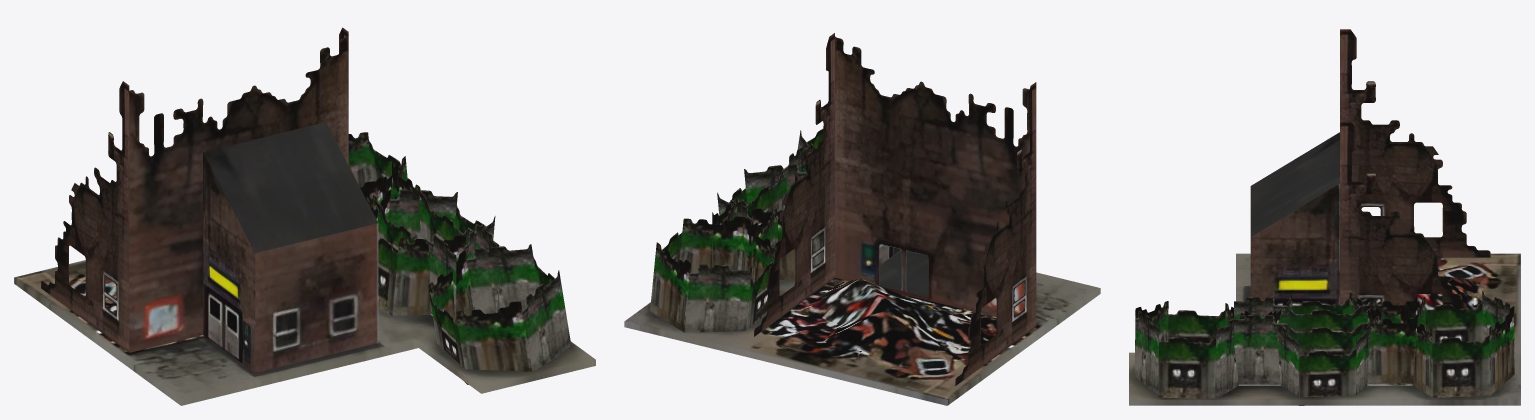
Rendered from chemicalplant_dam_hdtex.glb.
The picture shows the model from 3 angles, left to right: view 1: azimuth 30°, elevation 25°; view 2: azimuth 150°, elevation 25°; view 3: azimuth 270°, elevation 25°; orthographic projection. The views are drawn at different scales.
Visible parts, largest first — view 1: ChemicalPlantDam; view 2: ChemicalPlantDam; view 3: ChemicalPlantDam.
Boxes of the visible parts, x1,y1,x2,y2 form: ChemicalPlantDam: (14, 27, 595, 405); ChemicalPlantDam: (624, 33, 1100, 405); ChemicalPlantDam: (1129, 29, 1520, 405).
Bounding box in the file's own units: 16.62 × 13.25 × 18.29.
Materials: 1 (1 with a texture image).
